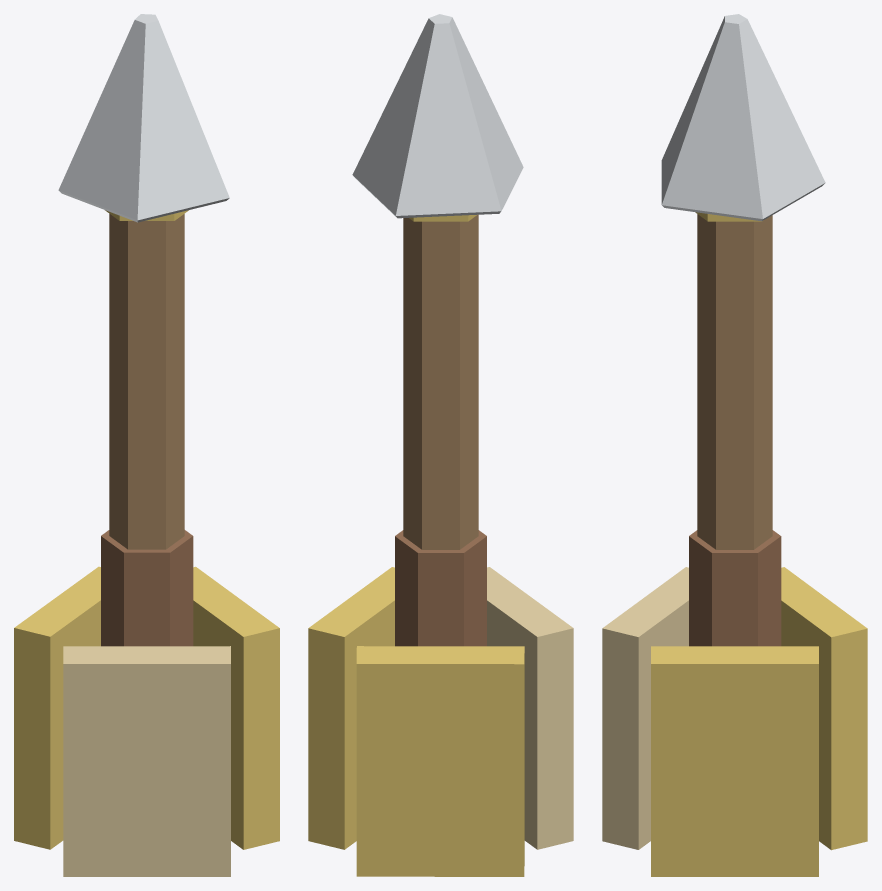
Rendered from arrow.glb.
3 renders of one model, left to right at view 1: azimuth 30°, elevation 25°; view 2: azimuth 150°, elevation 25°; view 3: azimuth 270°, elevation 25°, orthographic.
Visible parts, largest first — view 1: shaft; view 2: shaft; view 3: shaft.
Part boxes in pixels (x1,y1,x2,y2): shaft: [14, 14, 279, 876]; shaft: [308, 14, 573, 876]; shaft: [602, 14, 867, 876].
Size of the model in its own units: 0.274 by 1.07 by 0.3164.
